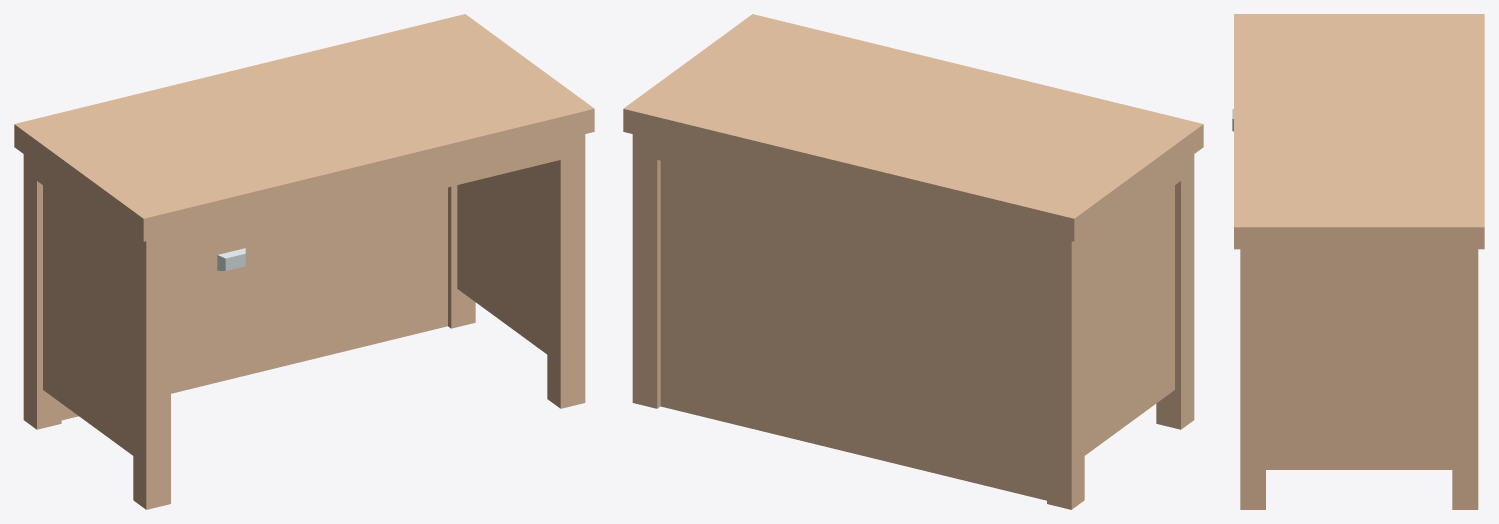
File: desk.glb
3 views of the same model, side by side, from view 1: azimuth 30°, elevation 25°; view 2: azimuth 150°, elevation 25°; view 3: azimuth 270°, elevation 25° (orthographic). The views are drawn at different scales.
Parts seen in each view (by area): view 1: desk(Clone); view 2: desk(Clone); view 3: desk(Clone).
Boxes of the visible parts, <box> form: desk(Clone): <box>14,14,594,509</box>; desk(Clone): <box>623,14,1203,509</box>; desk(Clone): <box>1234,14,1484,509</box>.
Bounding box in the file's own units: 1.2 × 0.75 × 0.6.
